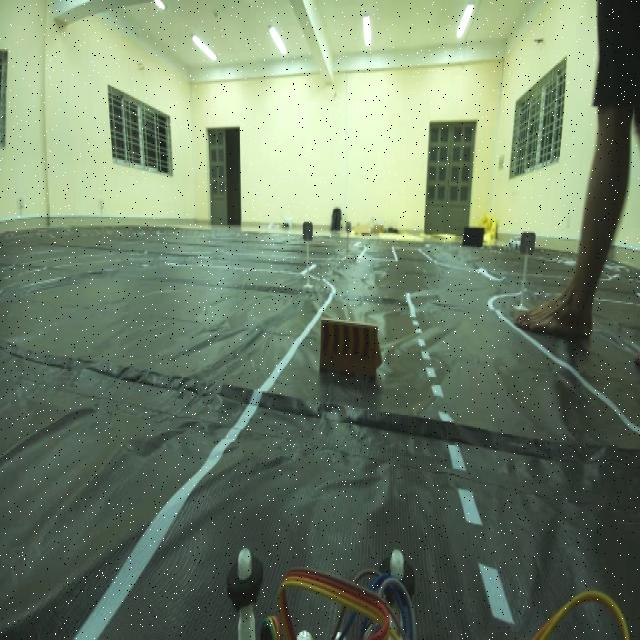roadblock: (314, 308, 388, 394)
